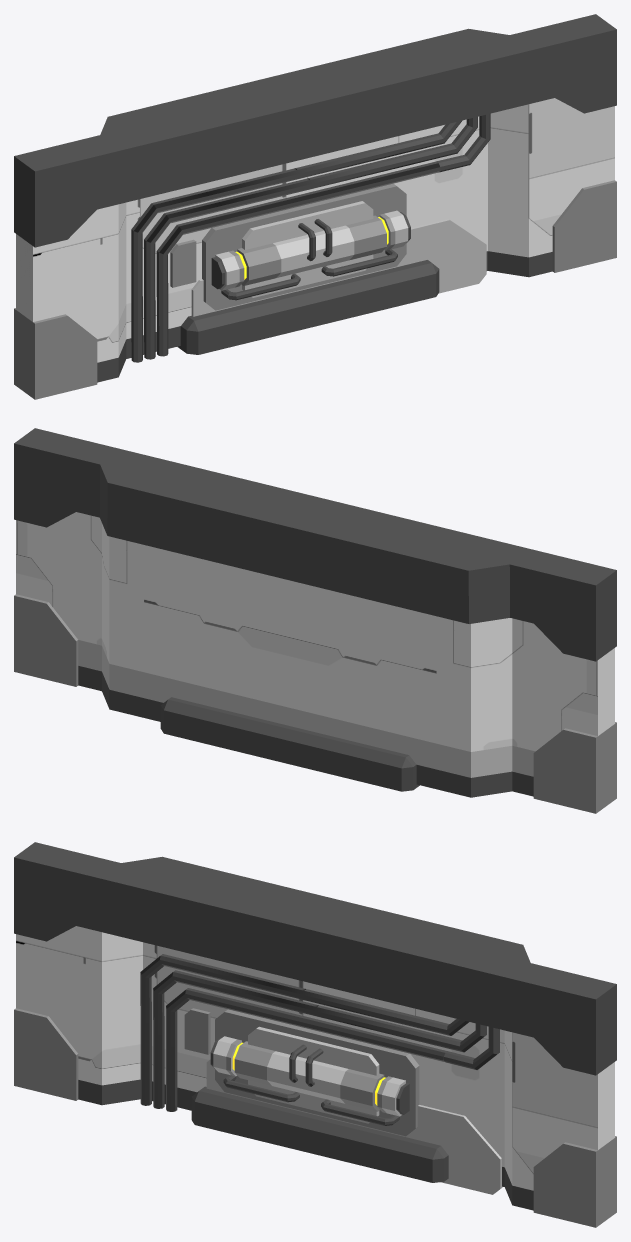
File: SM_Wall_8x3_4.fbx
3 views of the same model, one above another, from view 1: azimuth 30°, elevation 25°; view 2: azimuth 150°, elevation 25°; view 3: azimuth 330°, elevation 25° (orthographic).
Parts seen in each view (by area): view 1: SM_Wall_8x3_4; view 2: SM_Wall_8x3_4; view 3: SM_Wall_8x3_4.
Part boxes in pixels (box(x1,y1,x2,y2)): SM_Wall_8x3_4: box(14, 14, 616, 399); SM_Wall_8x3_4: box(14, 428, 616, 813); SM_Wall_8x3_4: box(14, 842, 616, 1227).
Bounding box in the file's own units: 800 × 312 × 105.
